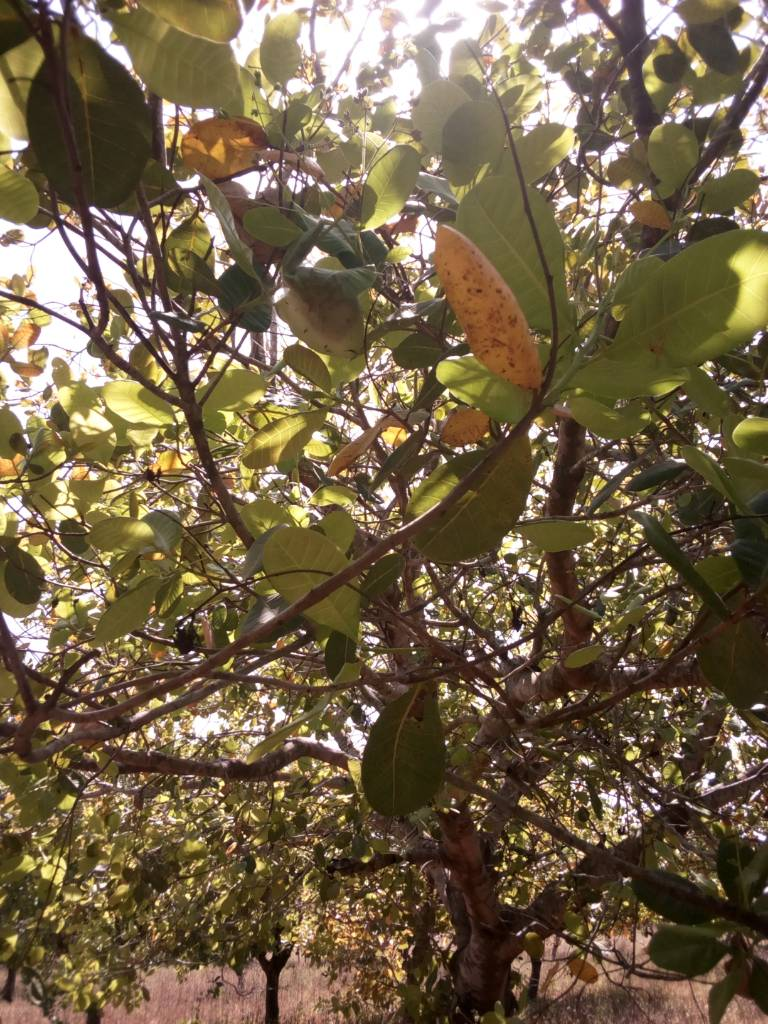Anthracnose: (430, 216, 537, 391)
